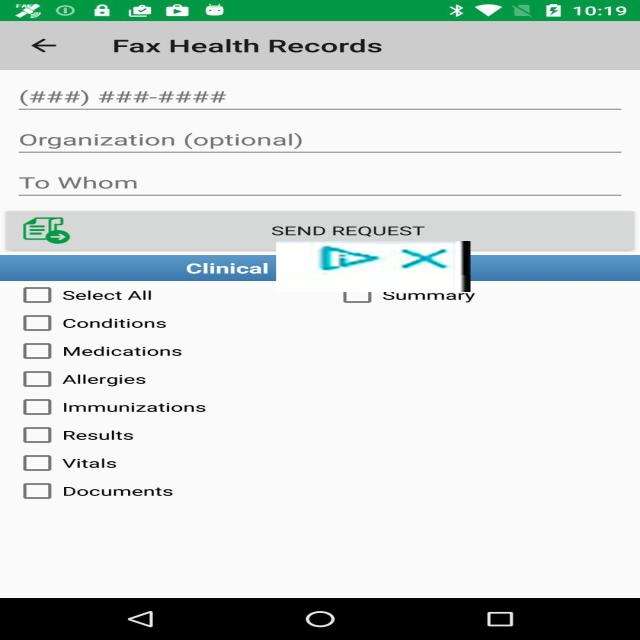sneaking: (276, 241, 471, 292)
